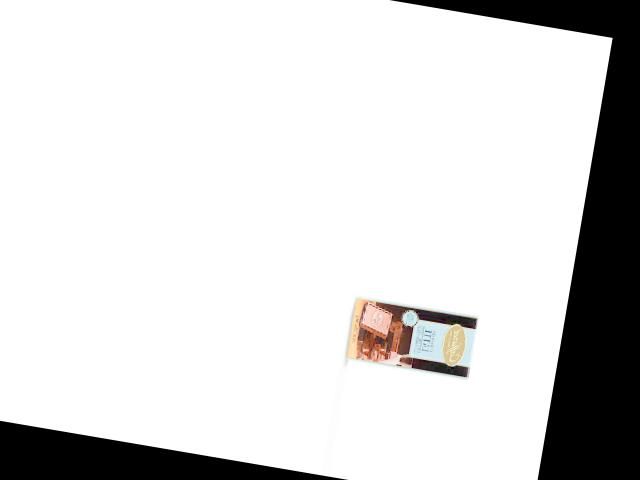chocolate: (343, 294, 480, 382)
